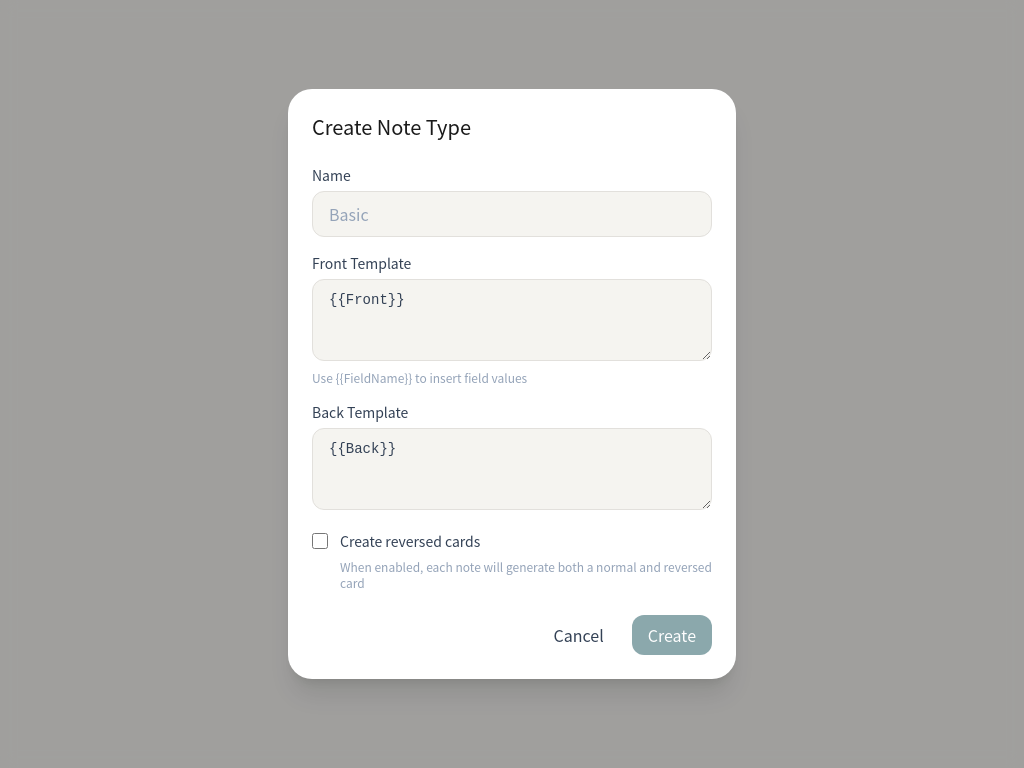
Test: CreateNoteTypeModal › shows loading state during submission
The width and height of the screenshot is (1024, 768).
Type "Test Note Type" into the field labelled "Name".
click(512, 214); type("Test Note Type")  # box [312,191,712,237]
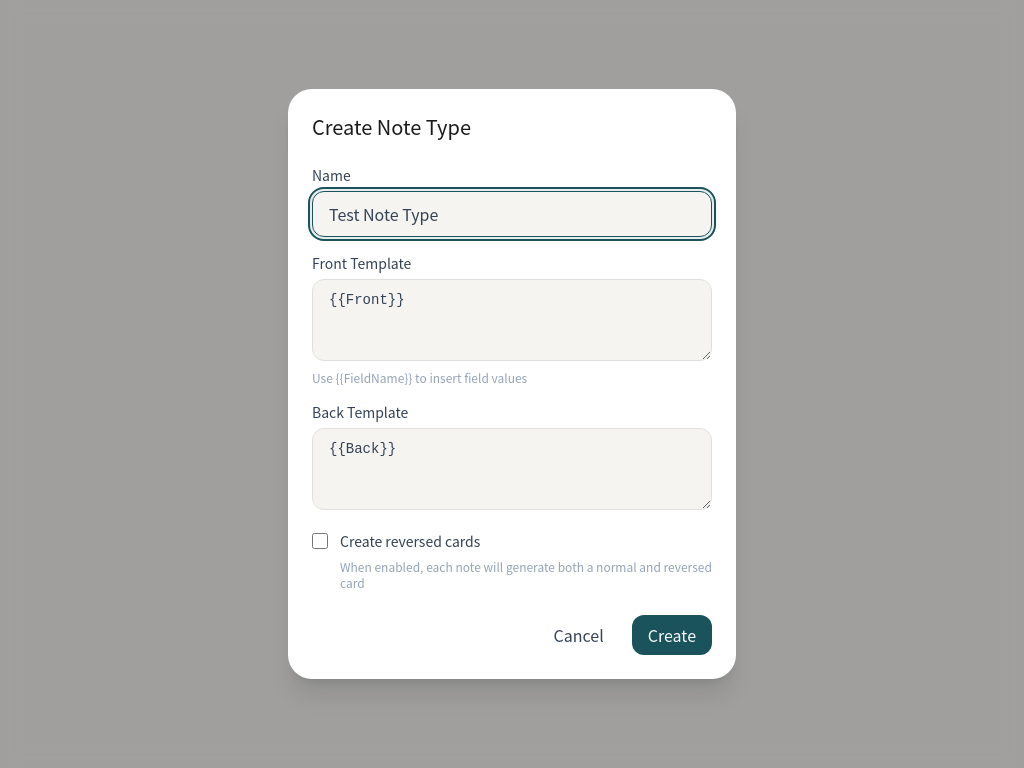
Click the button "Create".
click(672, 635)  # box [632,615,712,655]
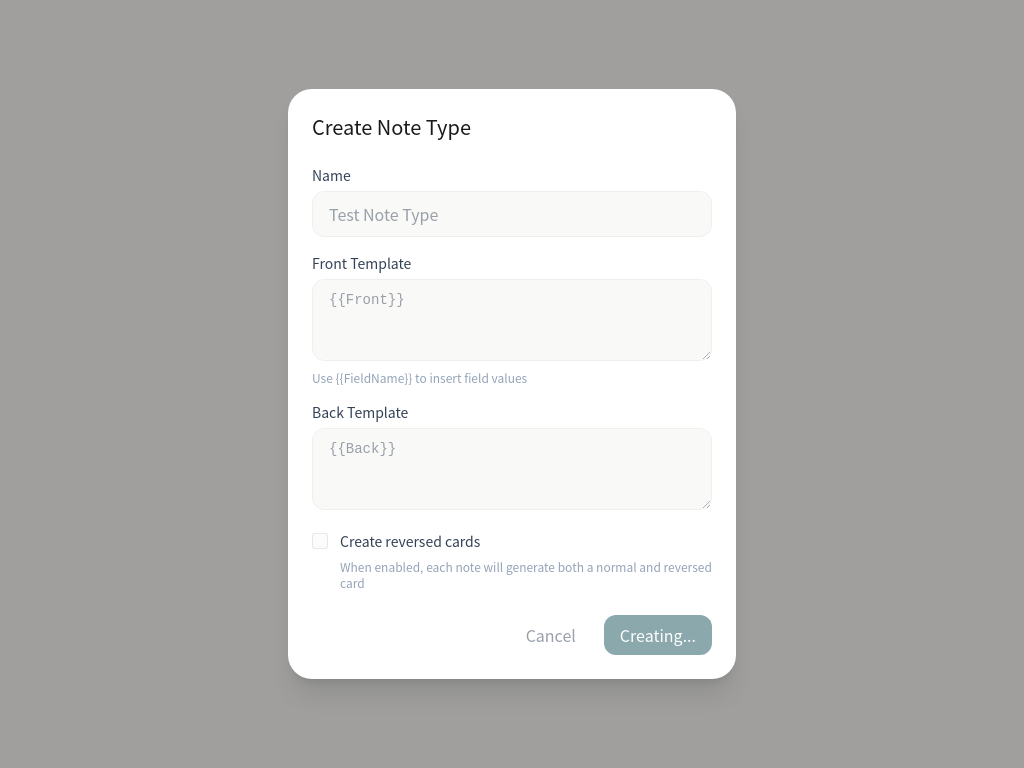
Check: the button "Creating..." is disabled, box [604,615,712,655]
Check: the button "Cancel" is disabled, box [510,615,592,655]
Check: the field labelled "Name" is disabled, box [312,191,712,237]
